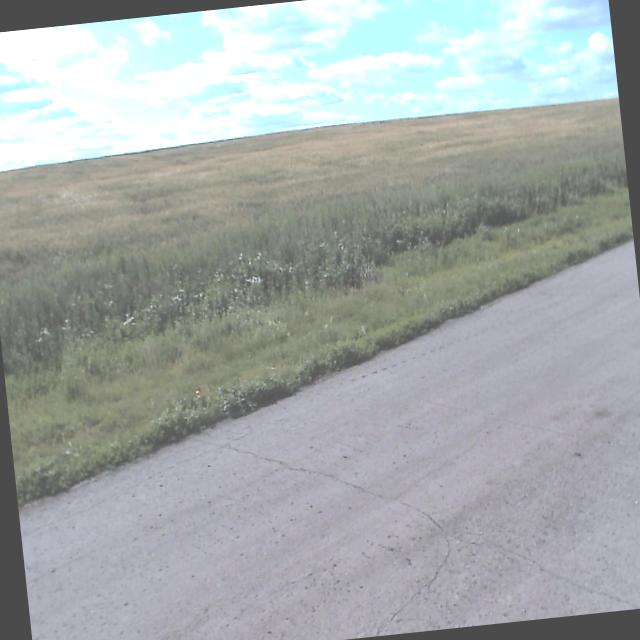road: (18, 237, 640, 640)
